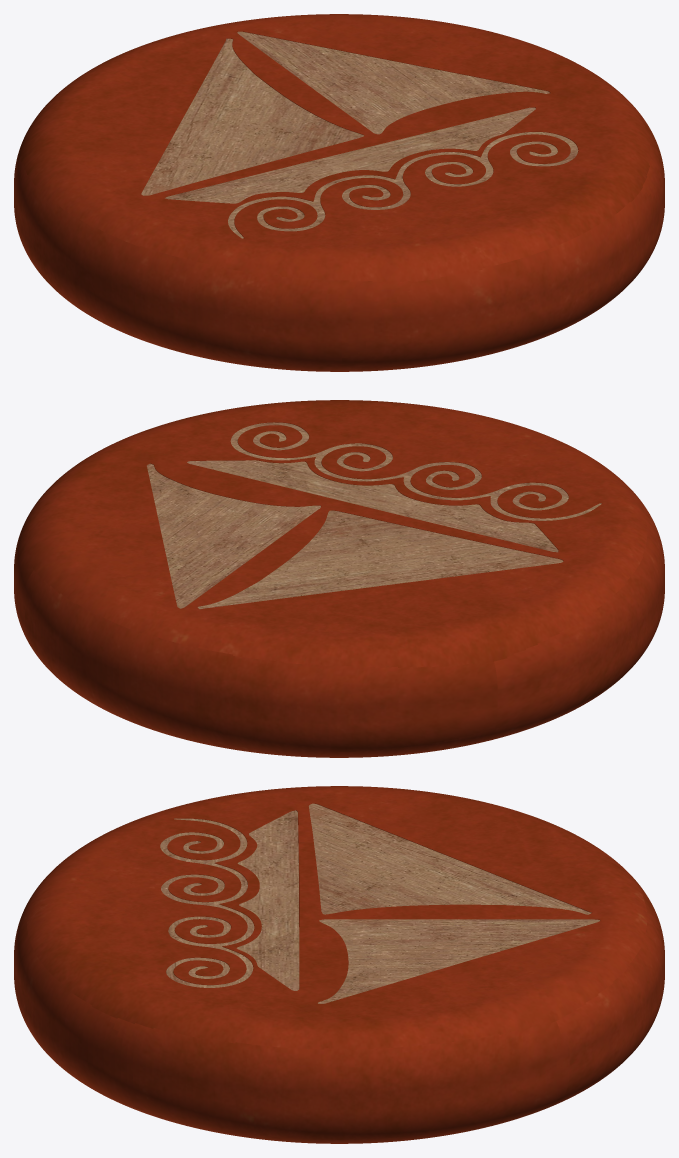
Rendered from Tile_Boat.glb.
The picture shows the model from 3 angles, top to bottom: view 1: azimuth 30°, elevation 25°; view 2: azimuth 150°, elevation 25°; view 3: azimuth 270°, elevation 25°; orthographic projection.
Parts seen in each view (by area): view 1: Tile, Face; view 2: Tile, Face; view 3: Tile, Face.
Boxes of the visible parts, left/top/right/bottom form: Tile: left=14, top=14, right=664, bottom=371; Face: left=141, top=31, right=578, bottom=238; Tile: left=14, top=400, right=664, bottom=757; Face: left=147, top=422, right=601, bottom=609; Tile: left=14, top=786, right=664, bottom=1143; Face: left=160, top=803, right=599, bottom=1003.
Size of the model in its own units: 2 by 0.4 by 2.
2 materials, 2 textured.
